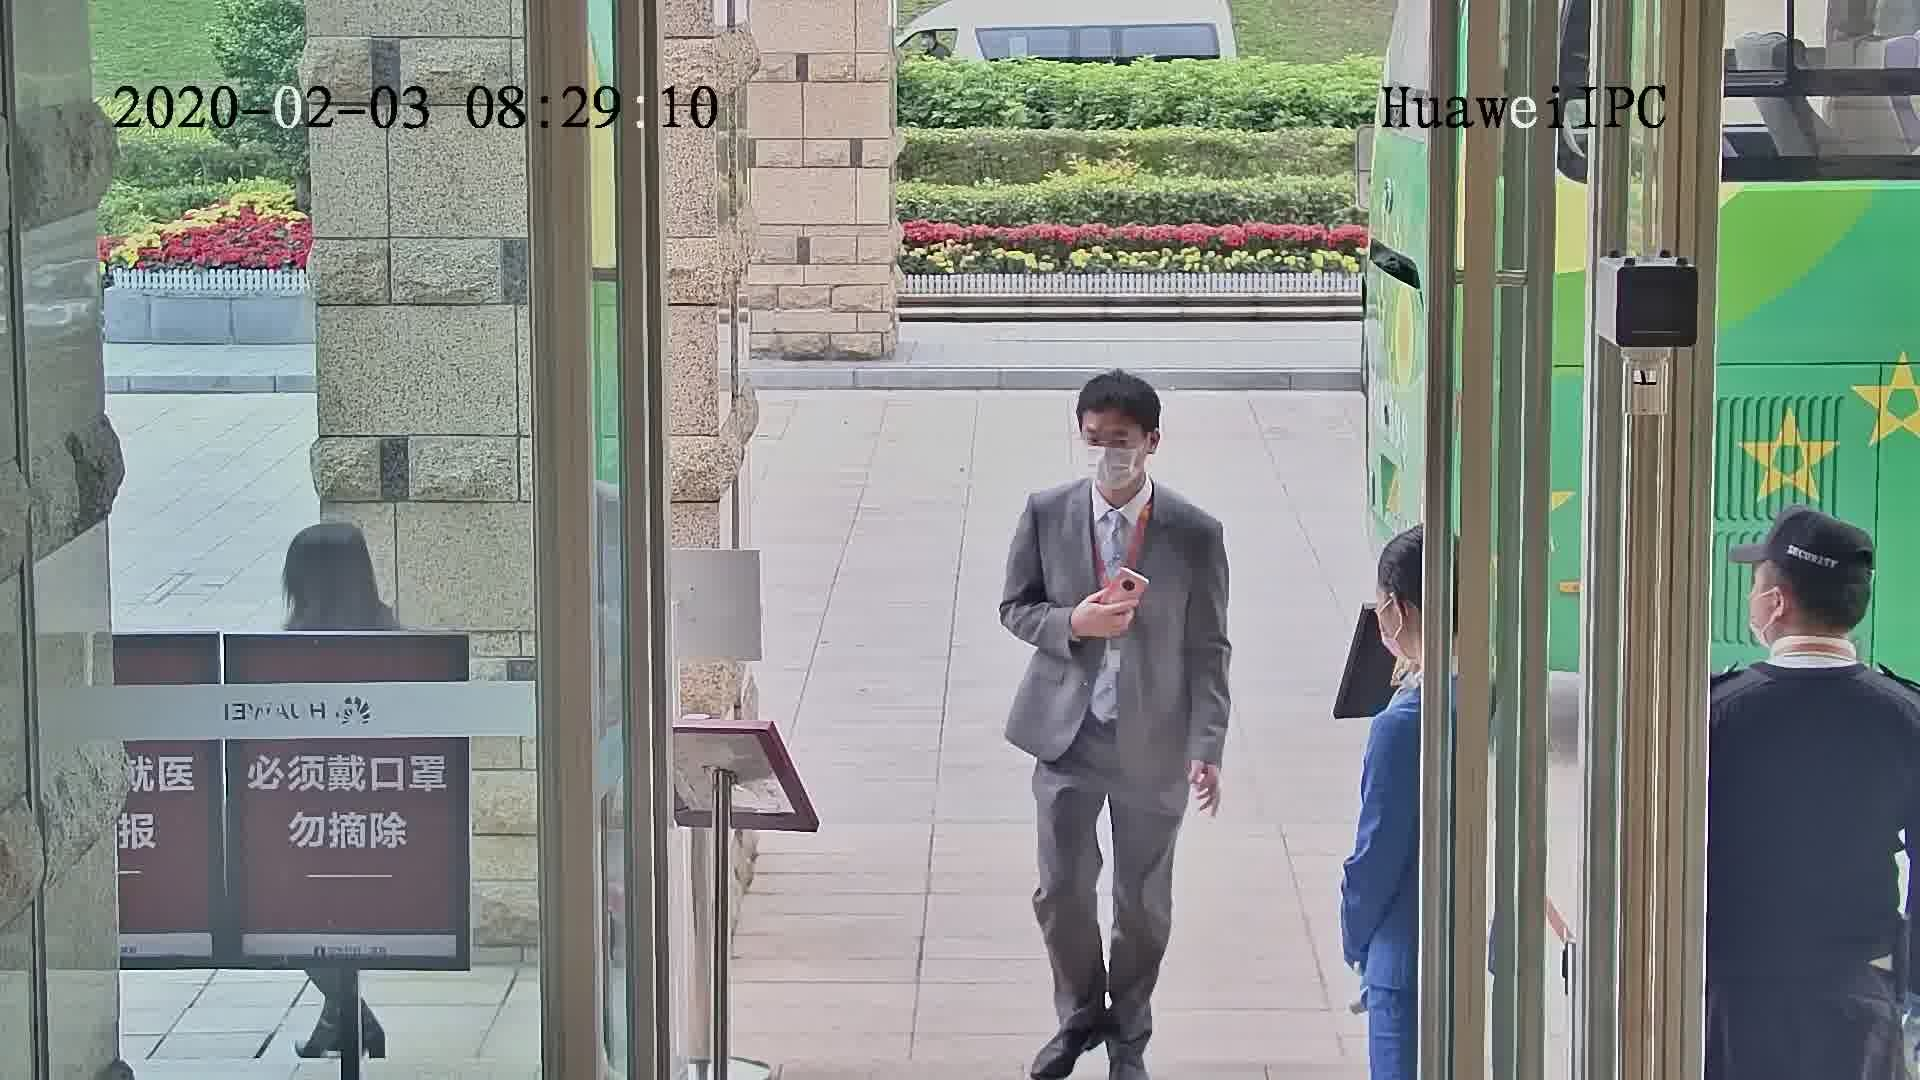face: (1077, 403, 1158, 484)
mask: (1076, 442, 1147, 491)
person: (1716, 500, 1915, 780), (1015, 368, 1224, 566), (1356, 513, 1438, 776), (279, 521, 424, 661)
